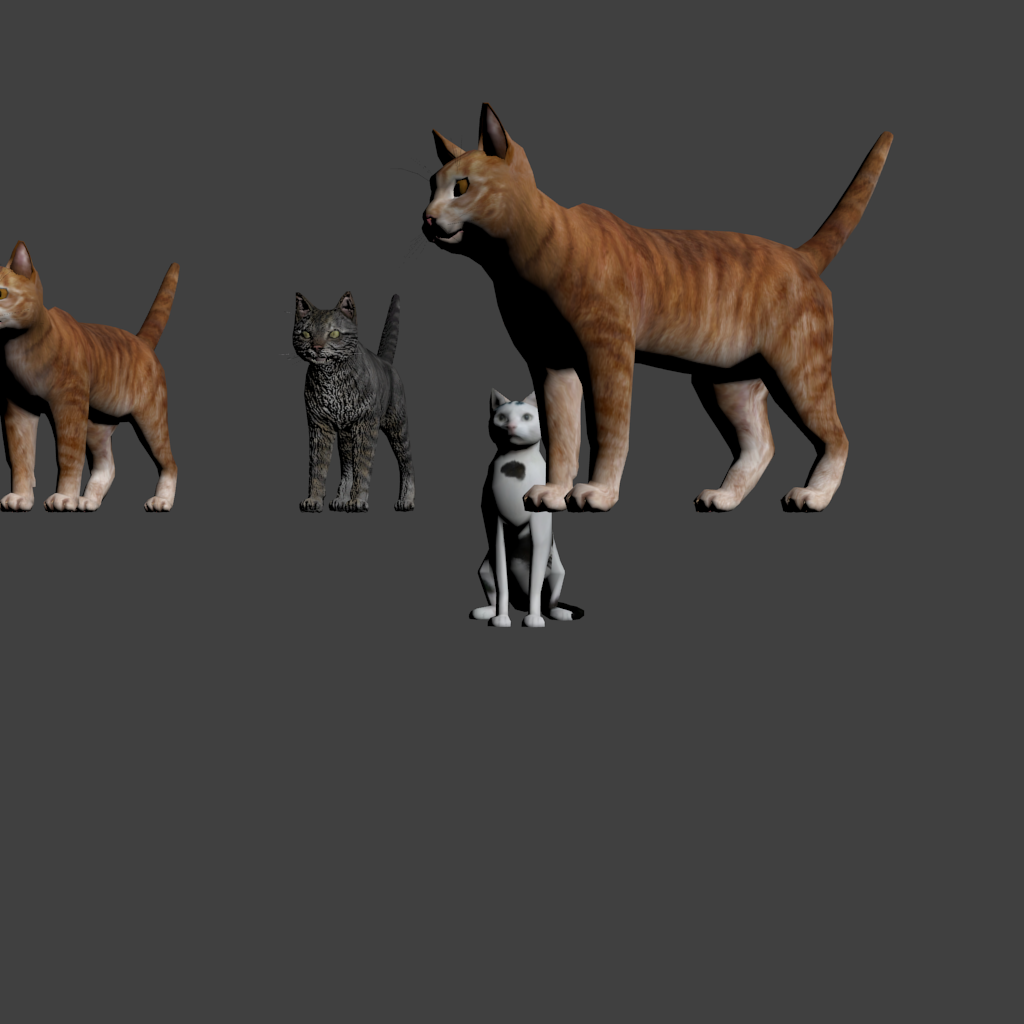Cat: (385, 103, 509, 410), (0, 240, 180, 272)
